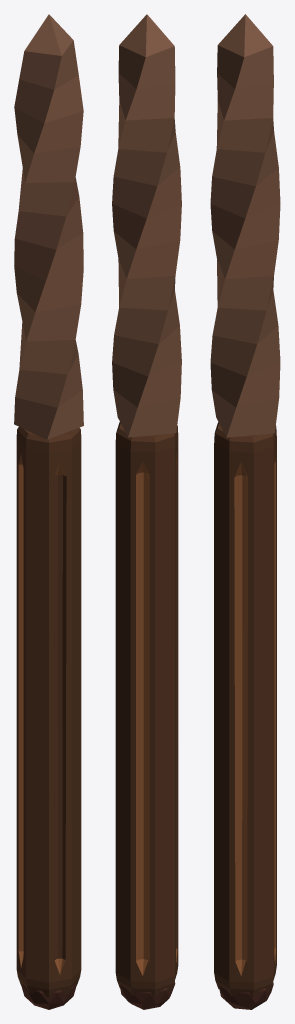
File: Wand 550.glb
3 renders of one model, left to right at view 1: azimuth 90°, elevation 25°; view 2: azimuth 150°, elevation 25°; view 3: azimuth 330°, elevation 25°, orthographic.
Visible parts, largest first — view 1: GeneratedWand; view 2: GeneratedWand; view 3: GeneratedWand.
Part boxes in pixels (x1,y1,x2,y2): GeneratedWand: (14, 14, 83, 1009); GeneratedWand: (112, 14, 181, 1009); GeneratedWand: (210, 14, 280, 1009).
Bounding box in the file's own units: 0.0311 × 0.4885 × 0.0311.
